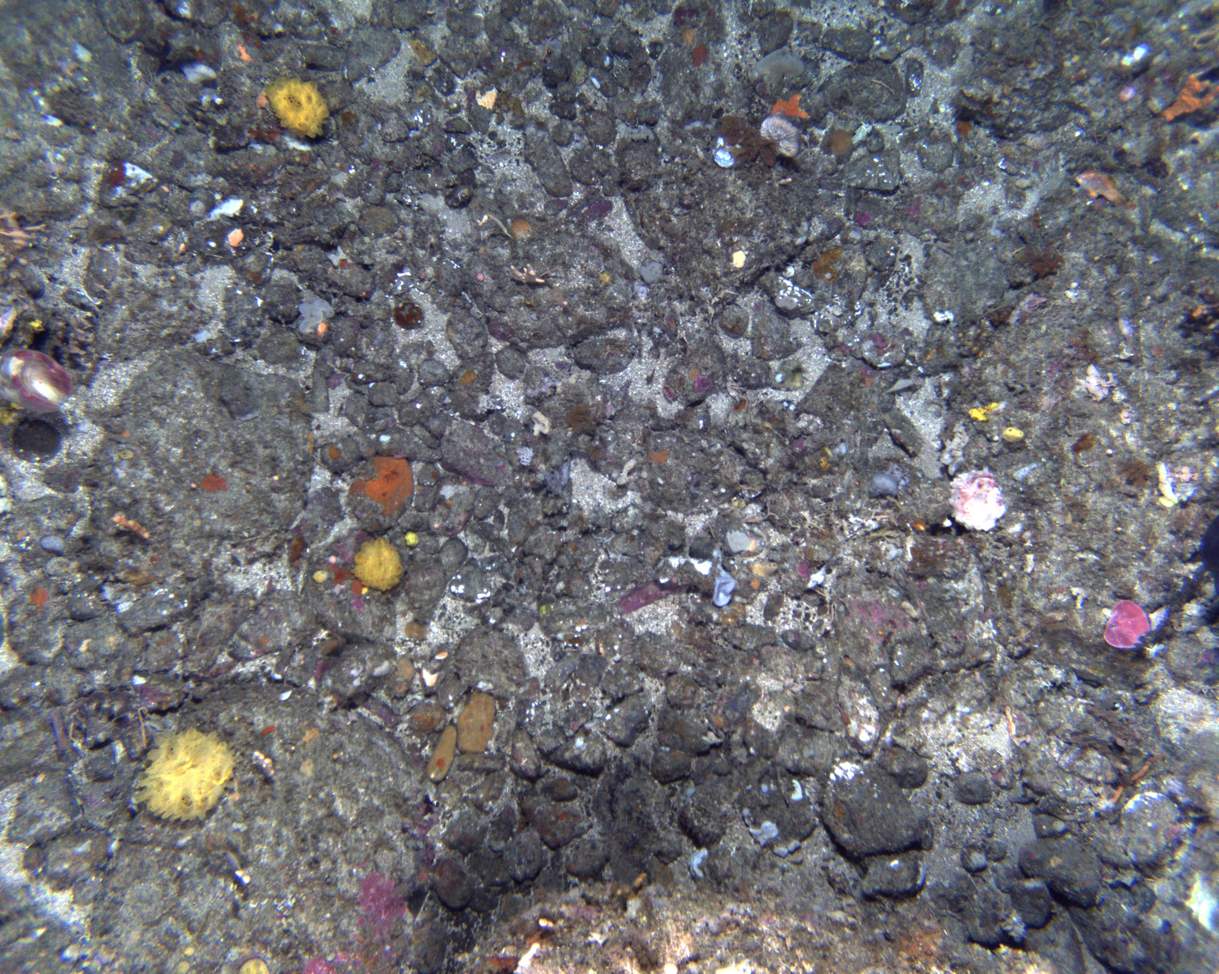Brachionichthyidae: (1073, 166, 1137, 210)
